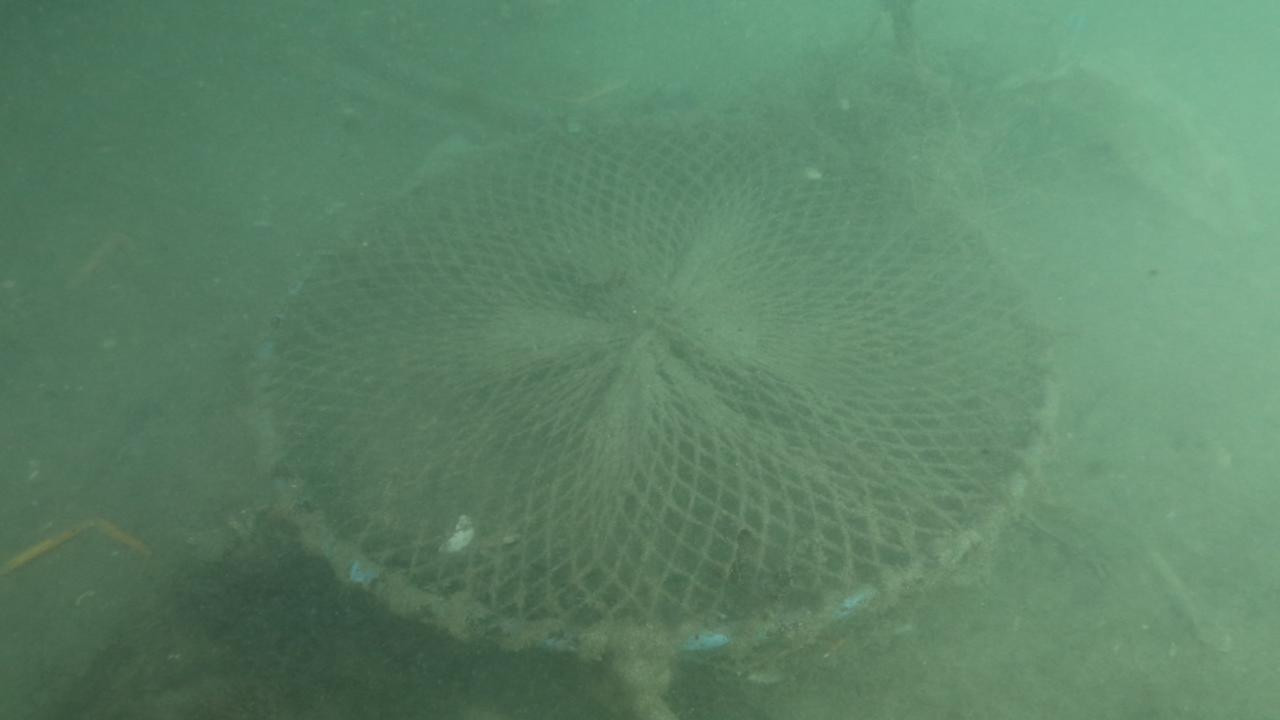bundle of ropes: (590, 637, 696, 720)
circular fish trap: (246, 104, 1065, 657)
